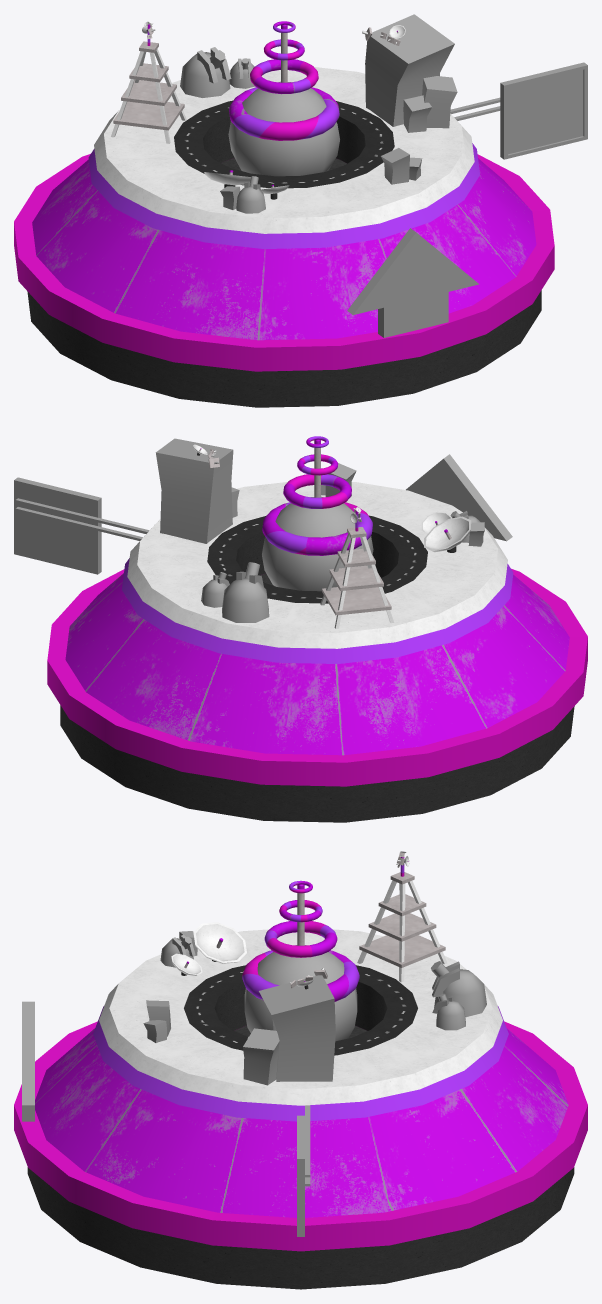
The model's file is platform.fbx.
The picture shows the model from 3 angles, top to bottom: view 1: azimuth 30°, elevation 25°; view 2: azimuth 150°, elevation 25°; view 3: azimuth 270°, elevation 25°; orthographic projection. The views are drawn at different scales.
Visible parts, largest first — view 1: Base_trim, rotate_2_trim, Static_NonTrims, Screen, Arrow, Rotate_1_Trim; view 2: Base_trim, rotate_2_trim, Static_NonTrims, Screen, Rotate_1_Trim, Arrow; view 3: Base_trim, rotate_2_trim, Static_NonTrims, Rotate_1_Trim, Arrow, Screen.
Boxes of the visible parts, x1,y1,x2,y2 form: Base_trim: (27,21,541,407); rotate_2_trim: (14,153,554,371); Static_NonTrims: (180,14,457,213); Screen: (450,62,587,159); Arrow: (347,228,478,337); Rotate_1_Trim: (88,143,479,248); Base_trim: (60,436,574,822); rotate_2_trim: (47,568,587,786); Static_NonTrims: (155,438,484,622); Screen: (14,477,149,574); Rotate_1_Trim: (122,558,513,663); Arrow: (406,454,512,541); Base_trim: (27,851,574,1289); rotate_2_trim: (14,1021,587,1251); Static_NonTrims: (143,931,486,1085); Rotate_1_Trim: (93,1006,508,1121); Arrow: (22,1001,34,1121); Screen: (297,1105,310,1236).
Bounding box in the file's own units: 230 × 112 × 202.
